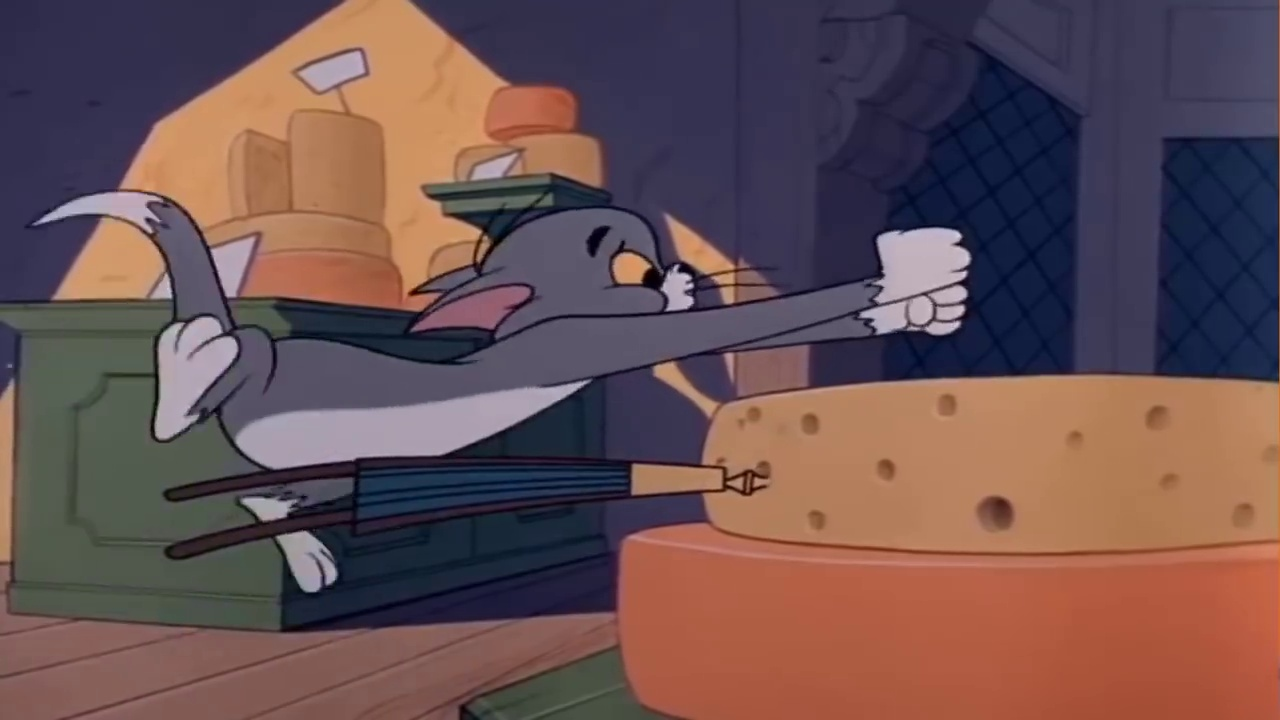face: (576, 215, 703, 314)
